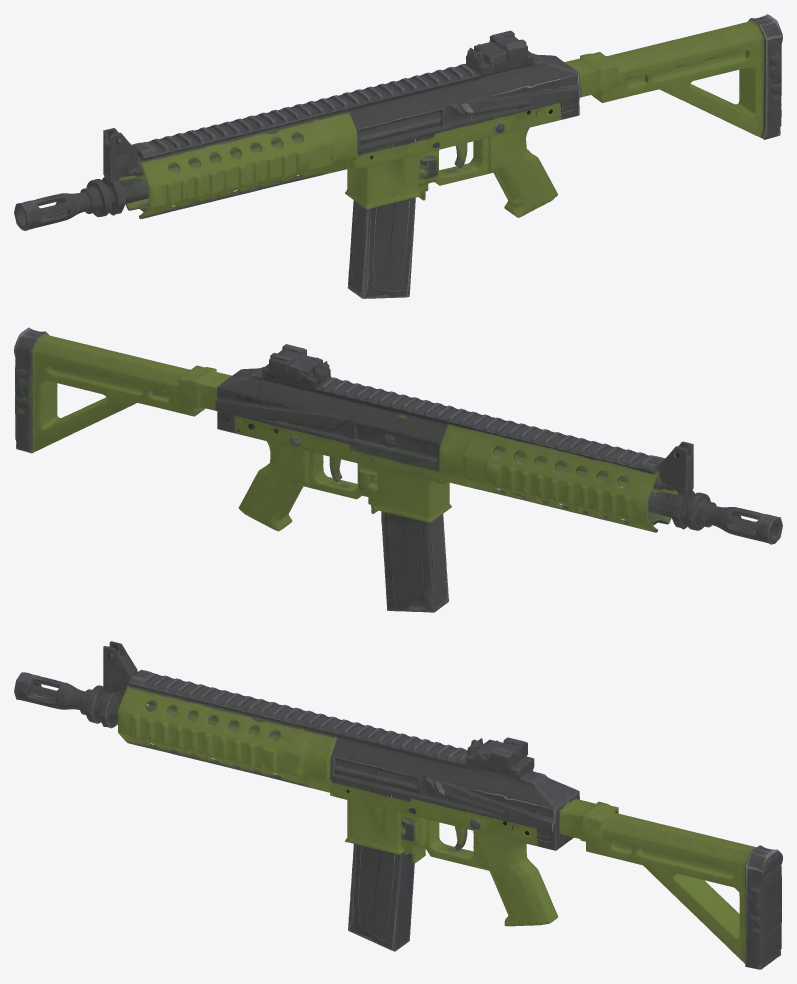
Rendered from rifle.glb.
The picture shows the model from 3 angles, top to bottom: view 1: azimuth 30°, elevation 25°; view 2: azimuth 150°, elevation 25°; view 3: azimuth 330°, elevation 25°; orthographic projection.
Size of the model in its own units: 1.9 by 0.5568 by 0.1607.
Materials: 1 (1 with a texture image).
